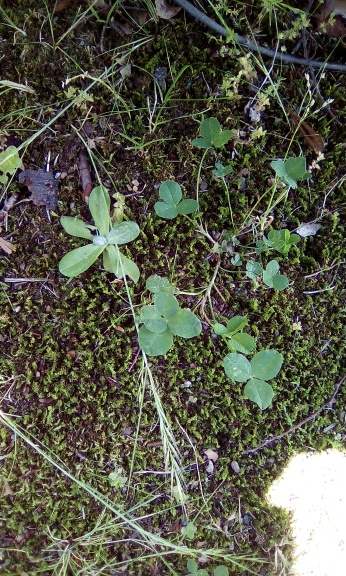4leaf: (137, 292, 202, 356)
